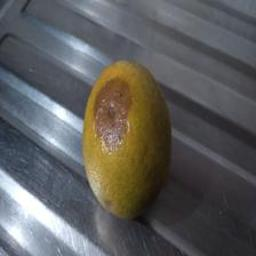Orange Semirotten: (70, 62, 178, 226)
